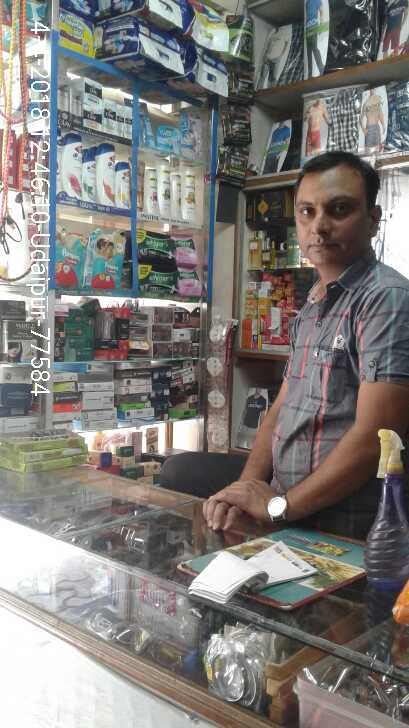venus: (182, 109, 202, 154), (160, 125, 181, 155), (142, 101, 155, 147)
